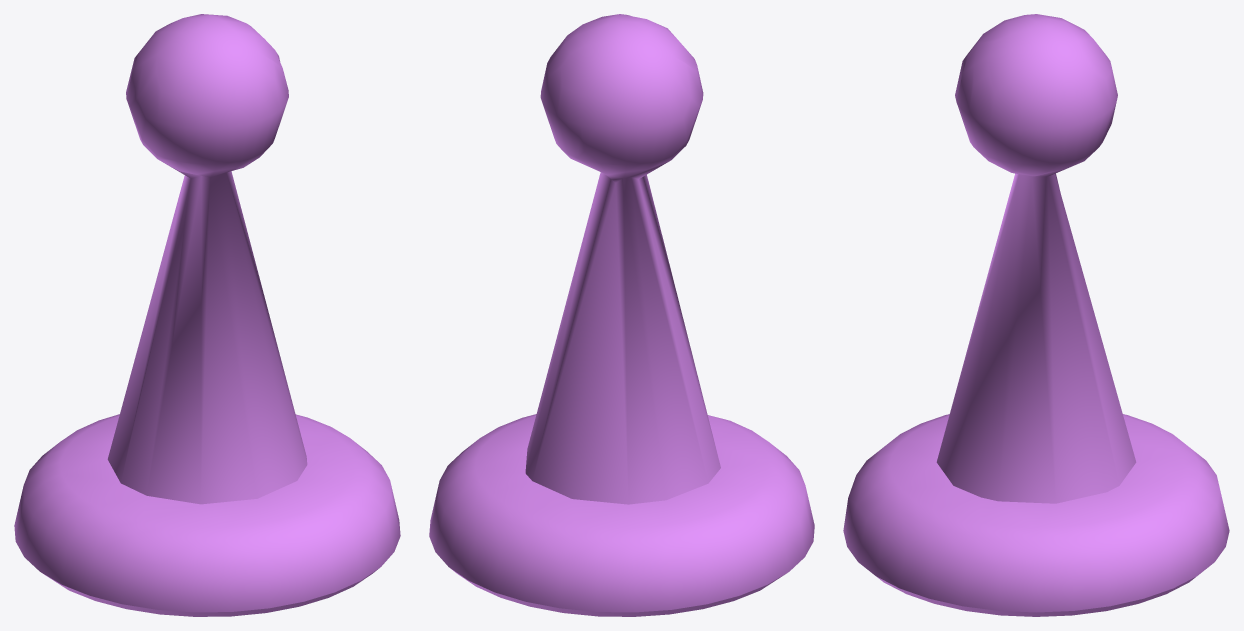
The model's file is FichaPlayer_MoradoClaro.glb.
The picture shows the model from 3 angles, left to right: view 1: azimuth 30°, elevation 25°; view 2: azimuth 150°, elevation 25°; view 3: azimuth 270°, elevation 25°; orthographic projection.
Parts seen in each view (by area): view 1: prim0; view 2: prim0; view 3: prim0.
Part boxes in pixels (x1=…): prim0: x1=14, y1=14, x2=400, y2=616; prim0: x1=429, y1=14, x2=814, y2=616; prim0: x1=843, y1=14, x2=1229, y2=616.
Bounding box in the file's own units: 1.72 × 2.55 × 1.72.
